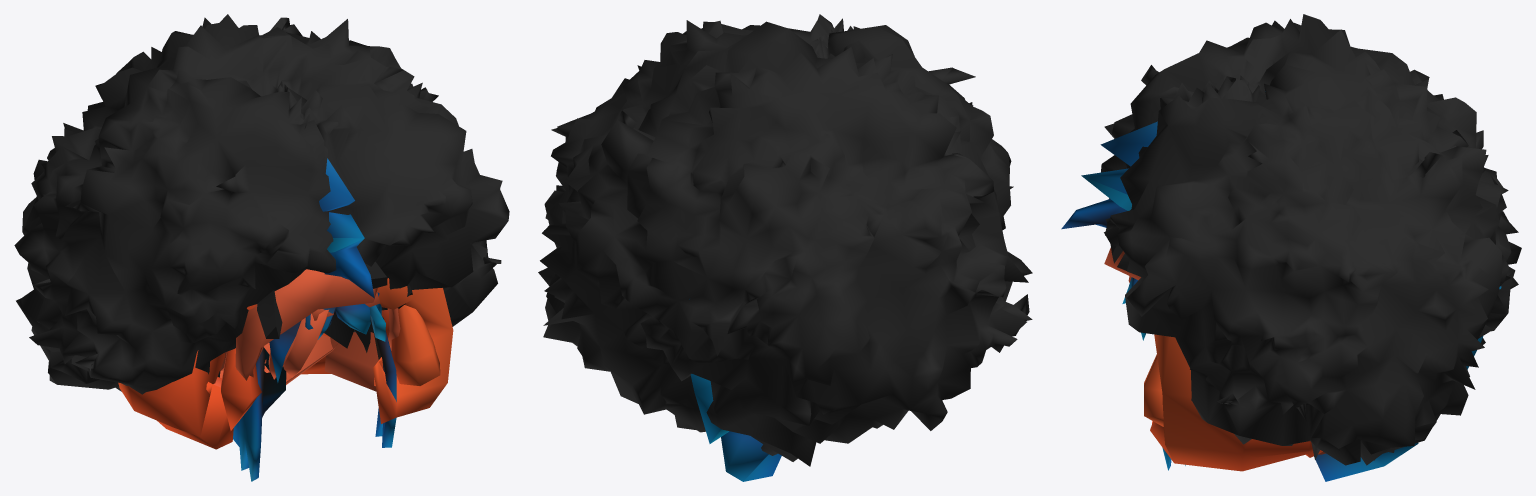
Rendered from HairImport.glb.
The picture shows the model from 3 angles, left to right: view 1: azimuth 30°, elevation 25°; view 2: azimuth 150°, elevation 25°; view 3: azimuth 270°, elevation 25°; orthographic projection.
Parts seen in each view (by area): view 1: Hair_Afro, Hair_BobSideTufts, Hair_MedMohawk, Hair_ShortSideShaved, Hair_MedMulletnBangs, Hair_ShortTextured, Hair_Short90sHeartthrob; view 2: Hair_Afro, Hair_MedMohawk; view 3: Hair_Afro, Hair_BobSideTufts, Hair_MedMohawk.
Boxes of the visible parts, x1=… form: Hair_Afro: x1=14, y1=14, x2=509, y2=394; Hair_BobSideTufts: x1=118, y1=278, x2=453, y2=449; Hair_MedMohawk: x1=233, y1=158, x2=396, y2=481; Hair_ShortSideShaved: x1=220, y1=269, x2=377, y2=384; Hair_MedMulletnBangs: x1=312, y1=291, x2=382, y2=391; Hair_ShortTextured: x1=217, y1=261, x2=412, y2=377; Hair_Short90sHeartthrob: x1=221, y1=308, x2=400, y2=379; Hair_Afro: x1=538, y1=14, x2=1032, y2=466; Hair_MedMohawk: x1=689, y1=299, x2=781, y2=481; Hair_Afro: x1=1101, y1=14, x2=1521, y2=465; Hair_BobSideTufts: x1=1144, y1=334, x2=1322, y2=471; Hair_MedMohawk: x1=1061, y1=121, x2=1501, y2=481.
Size of the model in its own units: 1.49 by 1.36 by 1.31.
